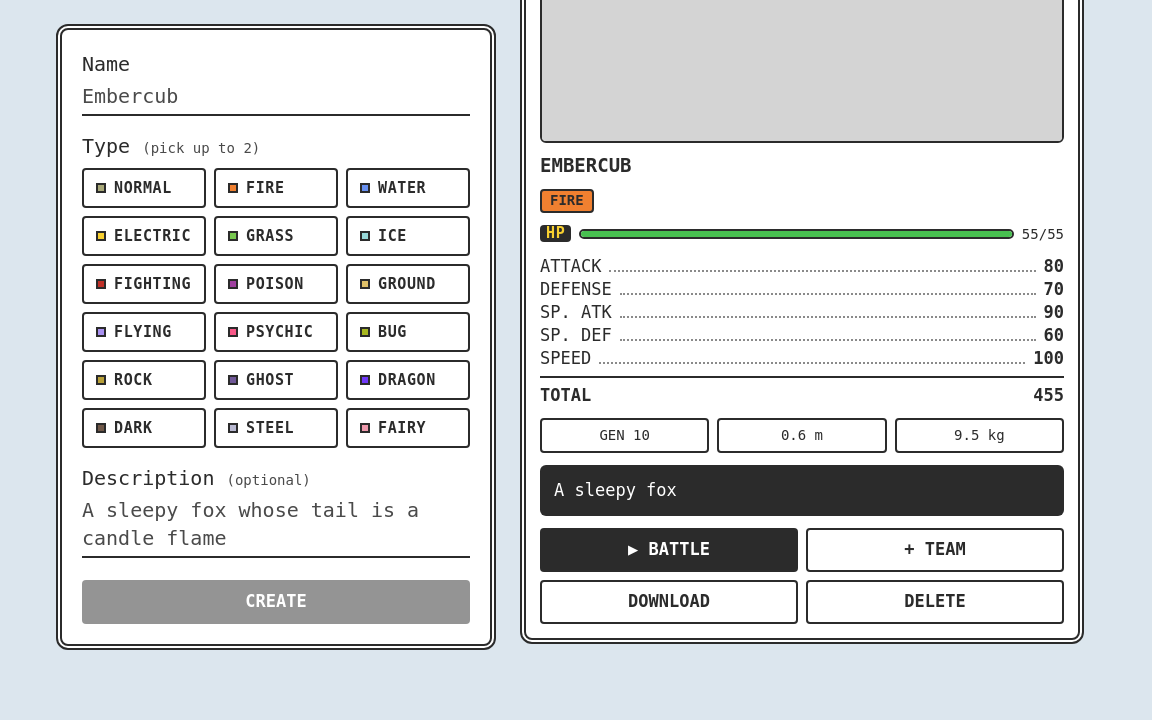
Test: CreatorScreen › adds a creature to your team, and links to a battle with it
(page scrolled)
Click the button with aria-label "Add Embercub to team" at (935,550), box [806,528,1064,572]
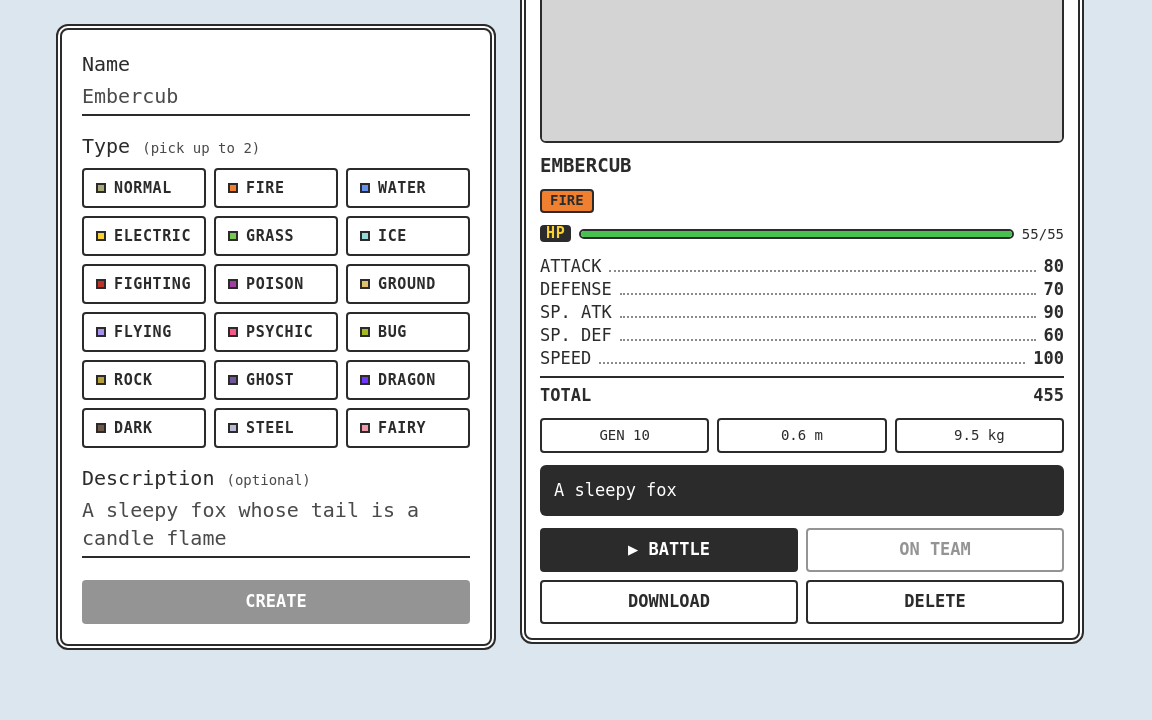
Now the button with aria-label "On your team" is disabled, box [806,528,1064,572]
